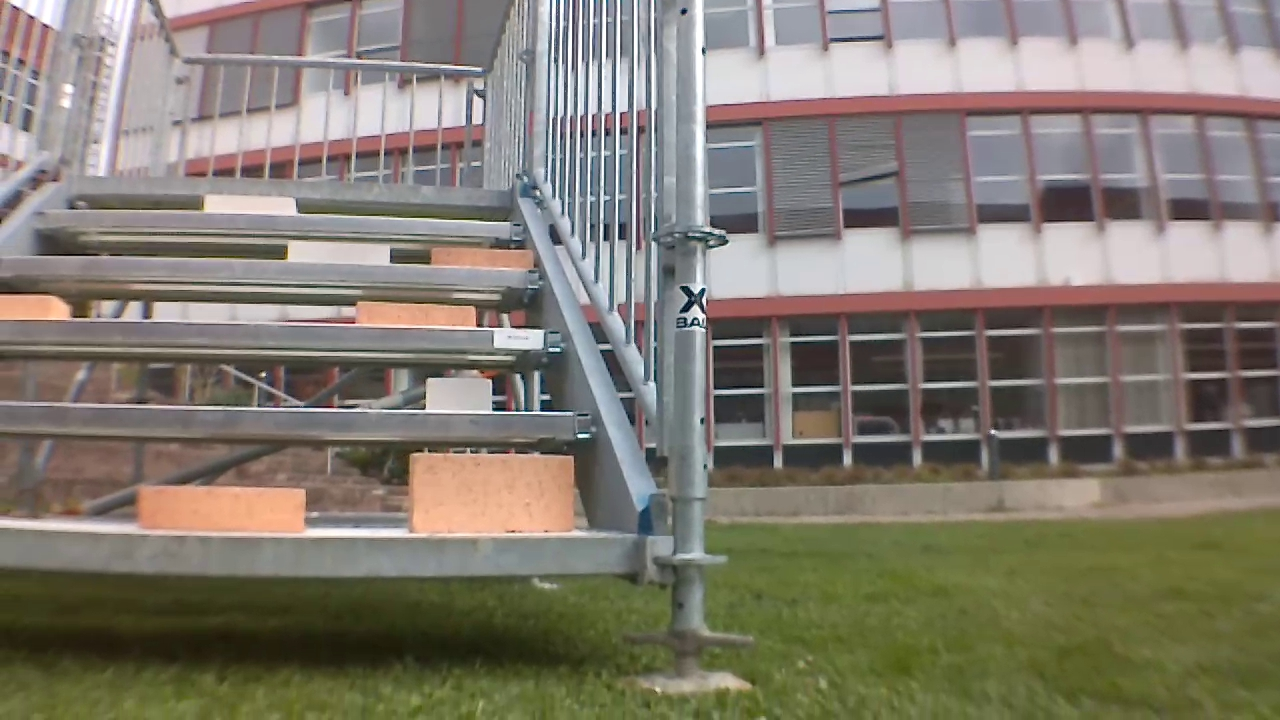brick: (402, 452, 580, 529), (133, 487, 303, 529), (354, 297, 476, 328), (415, 380, 495, 416), (434, 245, 542, 270), (287, 242, 393, 263), (199, 195, 293, 216), (0, 295, 65, 324)
edge: (0, 249, 539, 294), (0, 414, 596, 448), (25, 206, 530, 236), (0, 322, 567, 347), (36, 180, 508, 200)
stairs: (0, 0, 700, 642)
steps: (0, 173, 630, 575)
